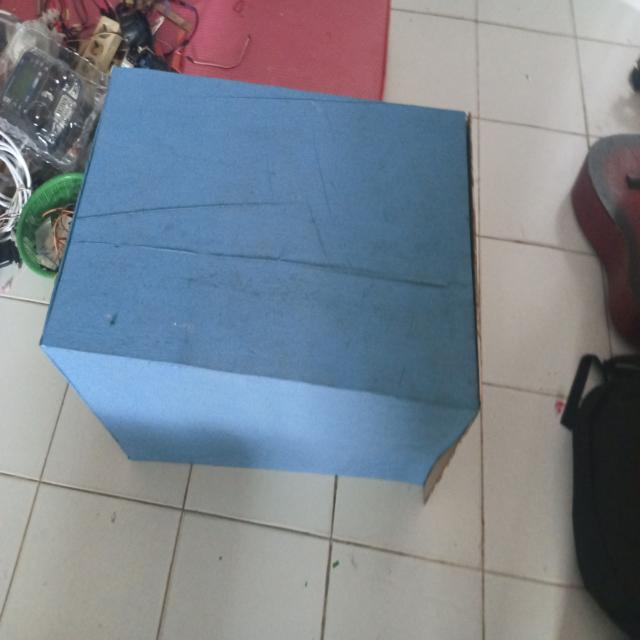blue_box: (36, 25, 500, 547)
